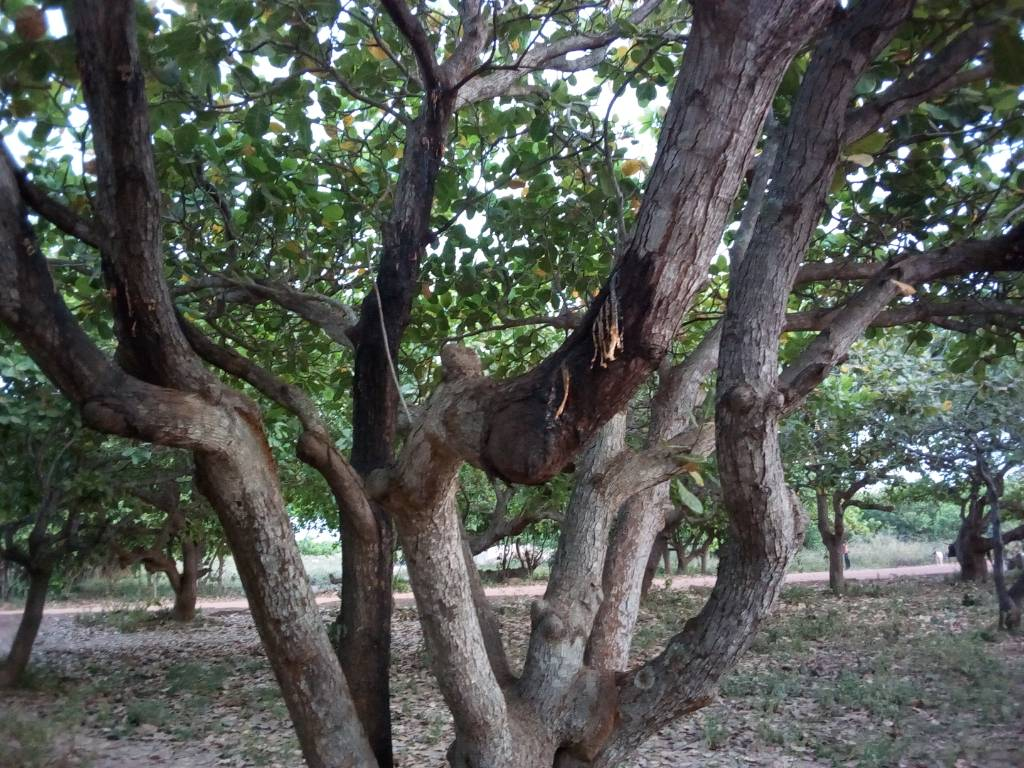Gommose: (540, 258, 656, 415), (353, 269, 406, 463)
